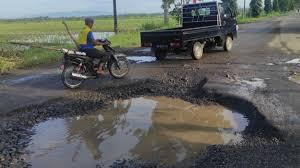Pothole: (3, 90, 299, 168), (119, 37, 171, 75), (228, 72, 283, 92), (272, 48, 300, 85), (199, 55, 259, 69)
